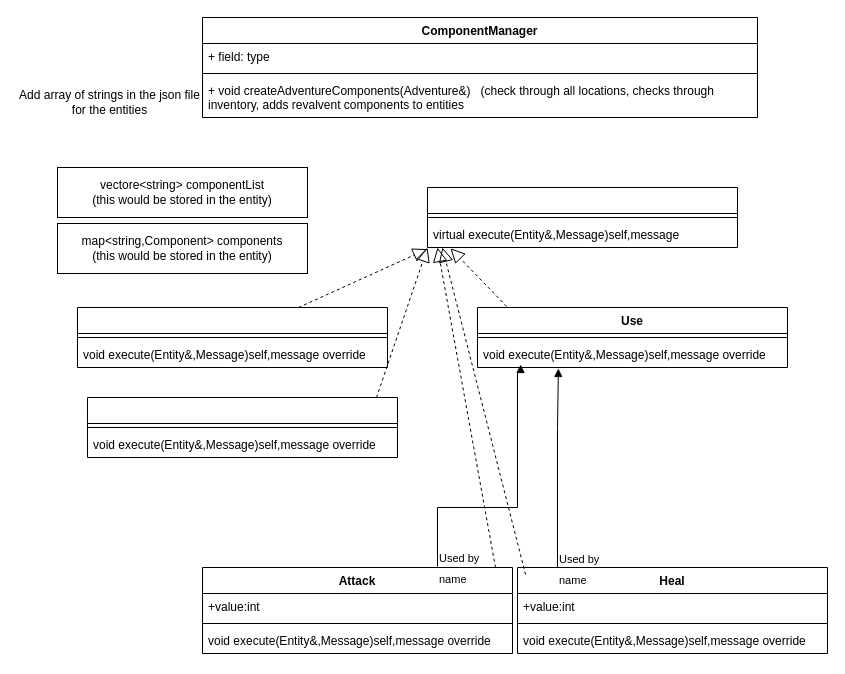
The diagram is 845 pixels wide and 674 high, and some of its shapes have lost their labels. The shapes that lost their labels are listed below. From the top down, each one's box as (x1, y1, x2, y2) in pixels, then its label:
(426, 186, 738, 248): Component
(76, 306, 388, 368): Open
(86, 396, 398, 458): Health
